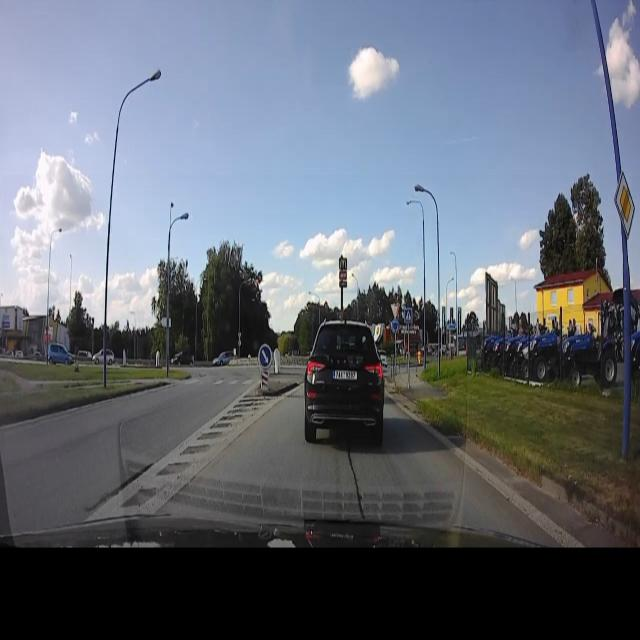Pedestrian crosswalk: (187, 369, 261, 386), (403, 306, 414, 322)
